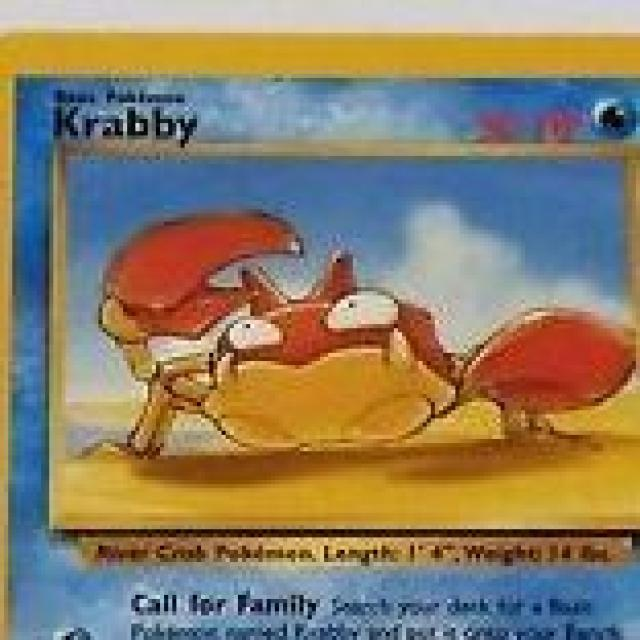Krabby: (89, 220, 619, 457)
